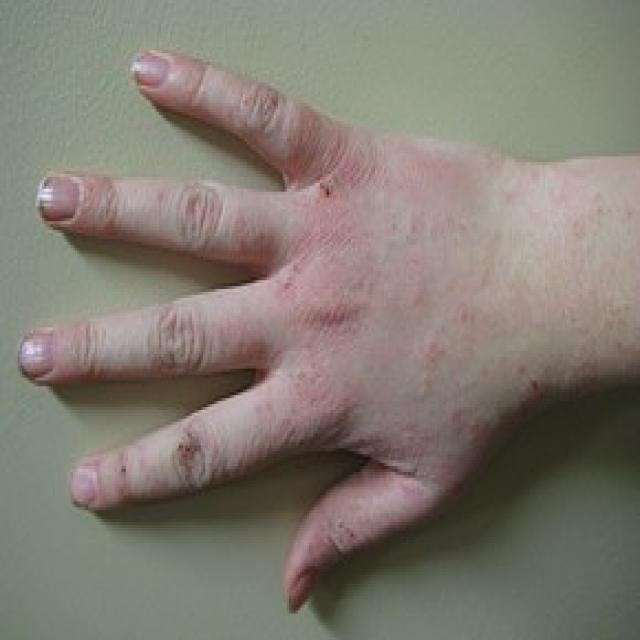eczema: (61, 367, 336, 529), (298, 137, 410, 412)
